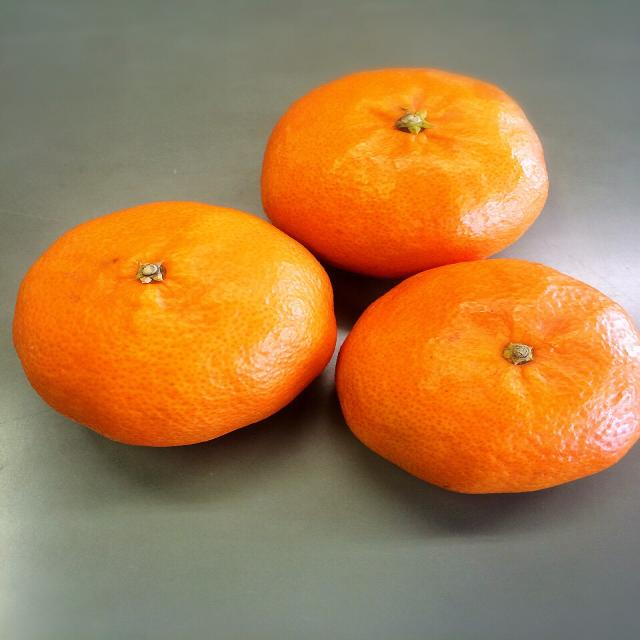Orange: (4, 204, 341, 449), (325, 260, 640, 499), (267, 63, 557, 279)
